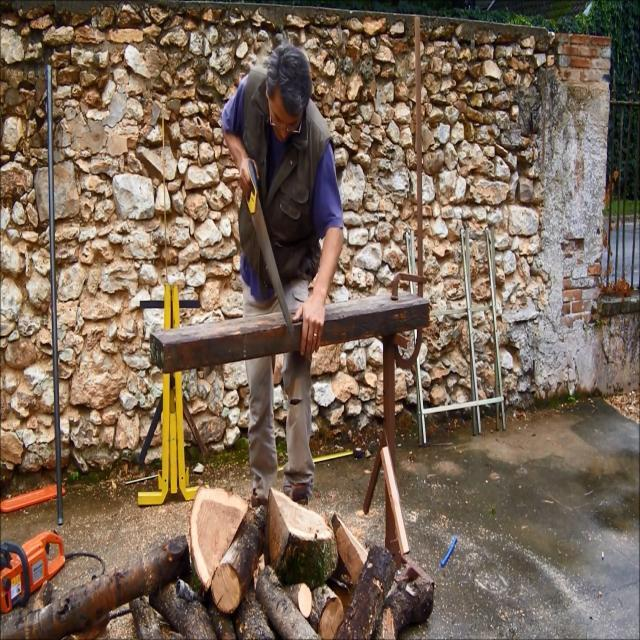Chainsaw: (0, 503, 75, 640)
